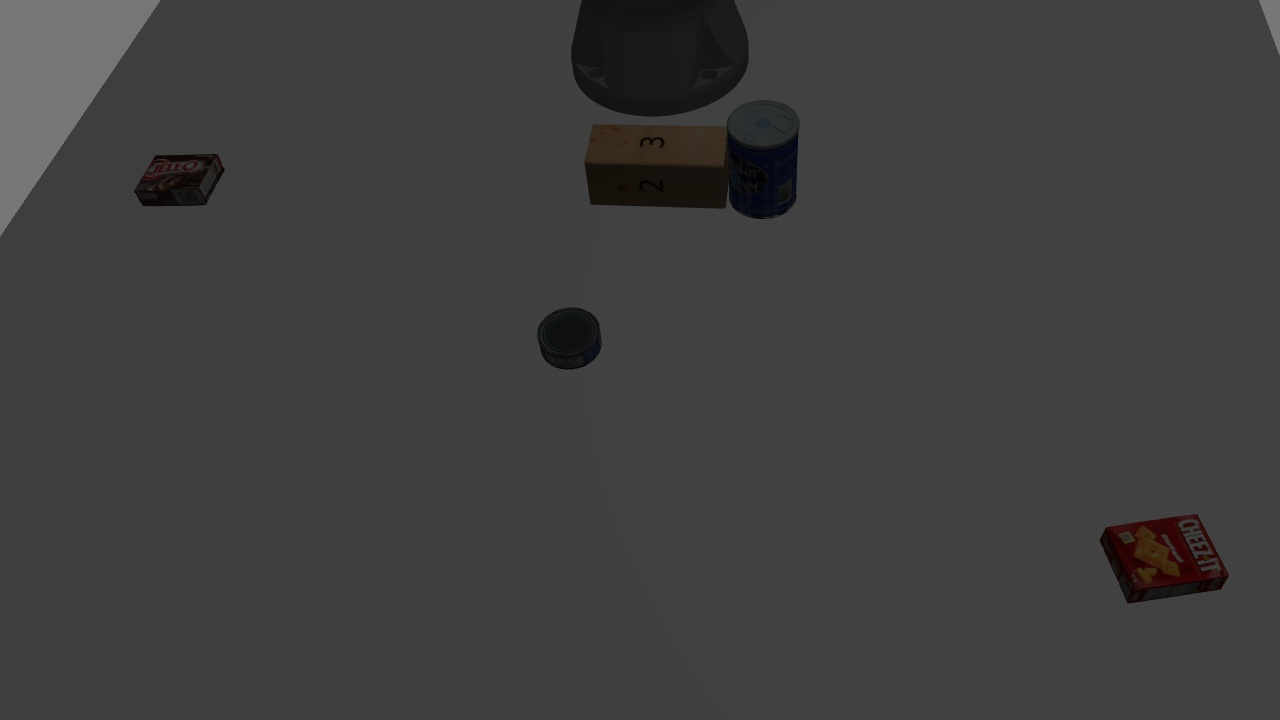cracker_box: (1092, 498, 1160, 601)
master_chef_can: (724, 97, 808, 221)
pudding_box: (130, 151, 230, 210)
tuna_fish_can: (537, 303, 605, 372)
wood_block: (583, 115, 733, 223)
